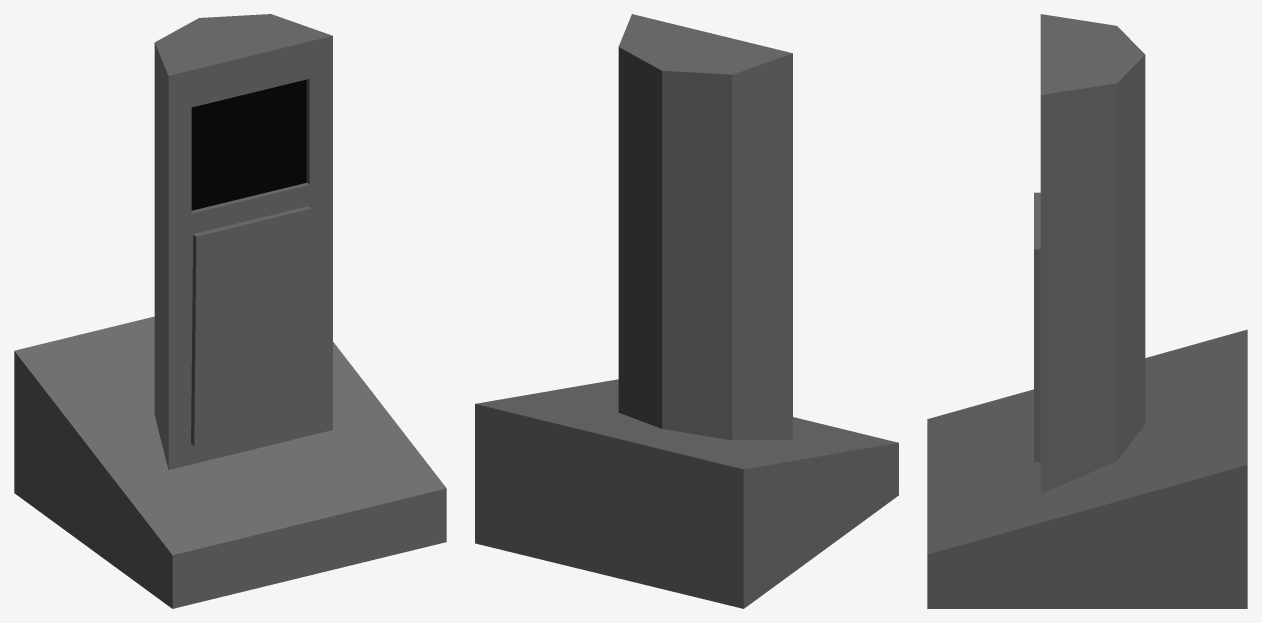
Rendered from phone.fbx.
The picture shows the model from 3 angles, left to right: view 1: azimuth 30°, elevation 25°; view 2: azimuth 150°, elevation 25°; view 3: azimuth 270°, elevation 25°; orthographic projection. The views are drawn at different scales.
Parts seen in each view (by area): view 1: H_Phone; view 2: H_Phone; view 3: H_Phone.
Part boxes in pixels (bbox=[...]): H_Phone: bbox=[14, 14, 446, 608]; H_Phone: bbox=[475, 14, 898, 608]; H_Phone: bbox=[927, 14, 1247, 608].
Bounding box in the file's own units: 67.82 × 67.82 × 113.
